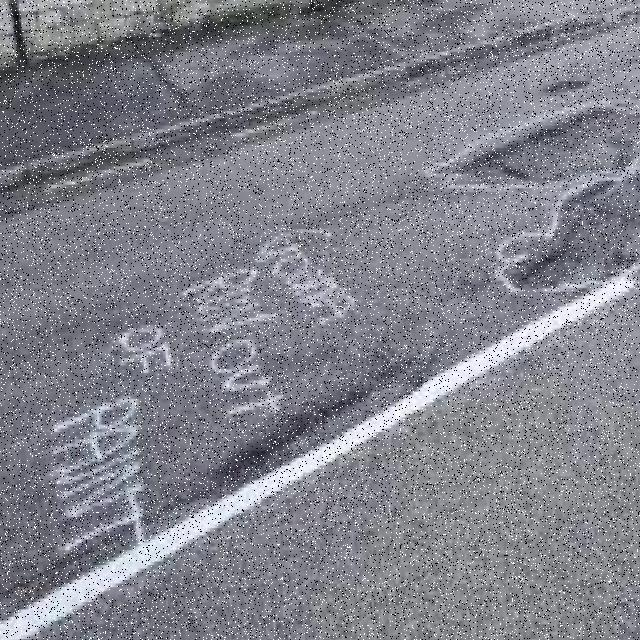pothole: (504, 177, 640, 288), (472, 114, 631, 181)
